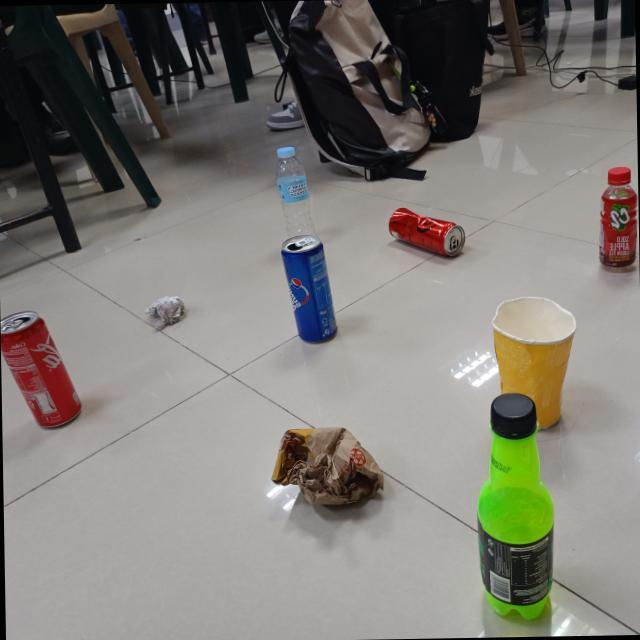recyclable waste: (469, 384, 563, 628), (487, 290, 582, 438), (263, 418, 391, 516), (0, 302, 88, 434), (276, 228, 342, 346), (380, 202, 470, 262), (271, 140, 321, 245), (594, 162, 640, 276), (141, 290, 191, 334)
